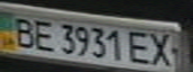1: (103, 27, 127, 62)
3: (87, 25, 109, 60), (54, 21, 75, 55)
9: (72, 24, 90, 57)
B: (6, 15, 39, 48)
E: (124, 28, 154, 65), (27, 17, 57, 52)
X: (145, 28, 178, 69)
